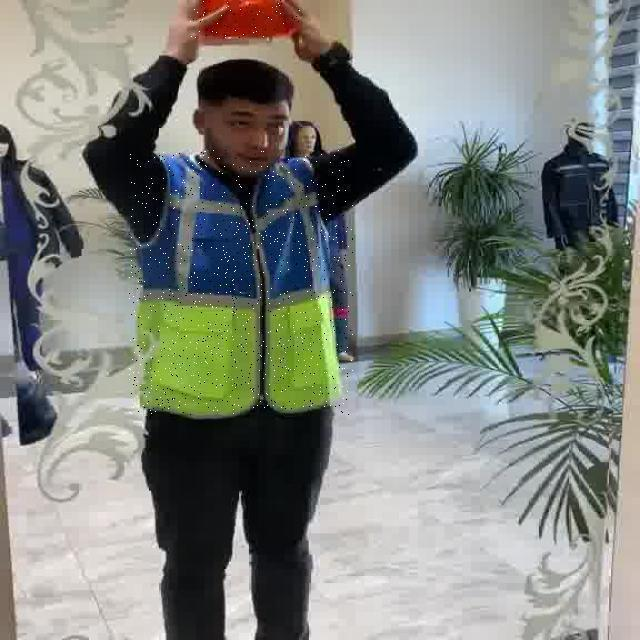helmet: (189, 1, 302, 38)
safety_vest: (128, 150, 352, 416)
